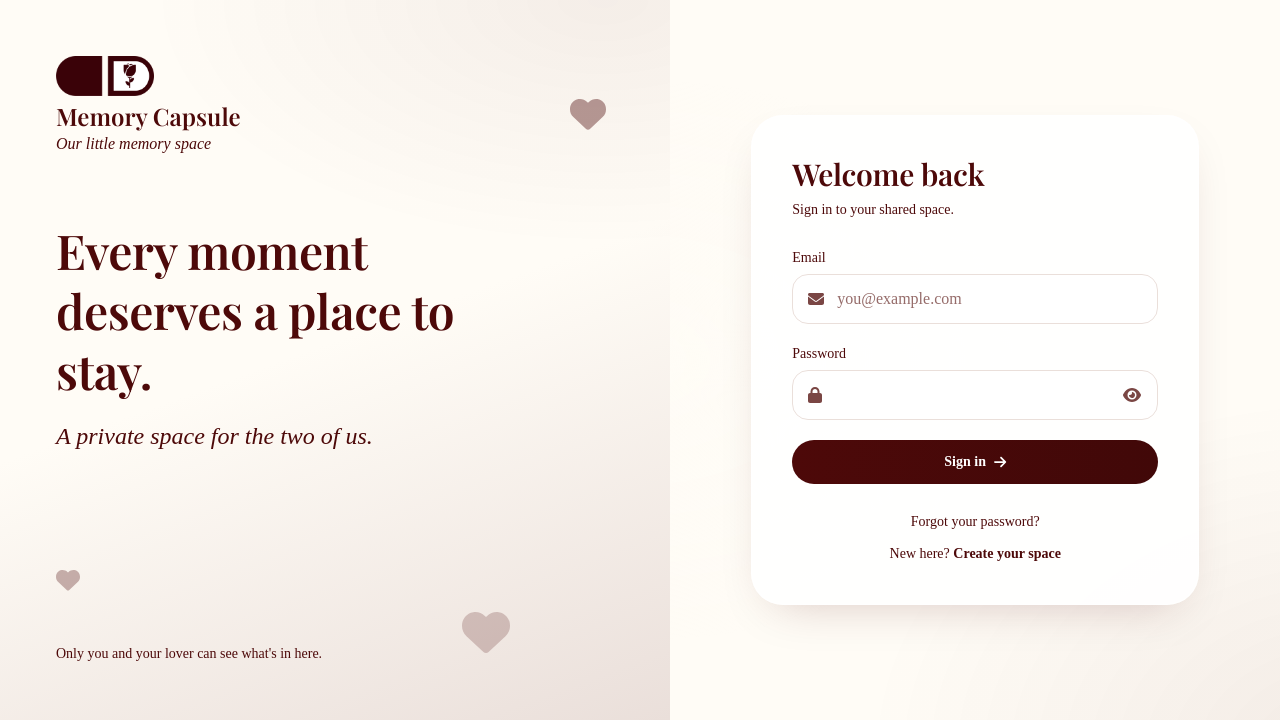
Test: login › shows a clear message for a wrong password
Type "rectojustine84@gmail.com" into the field labelled "Email" at (975, 299), box [792,274,1158,324]
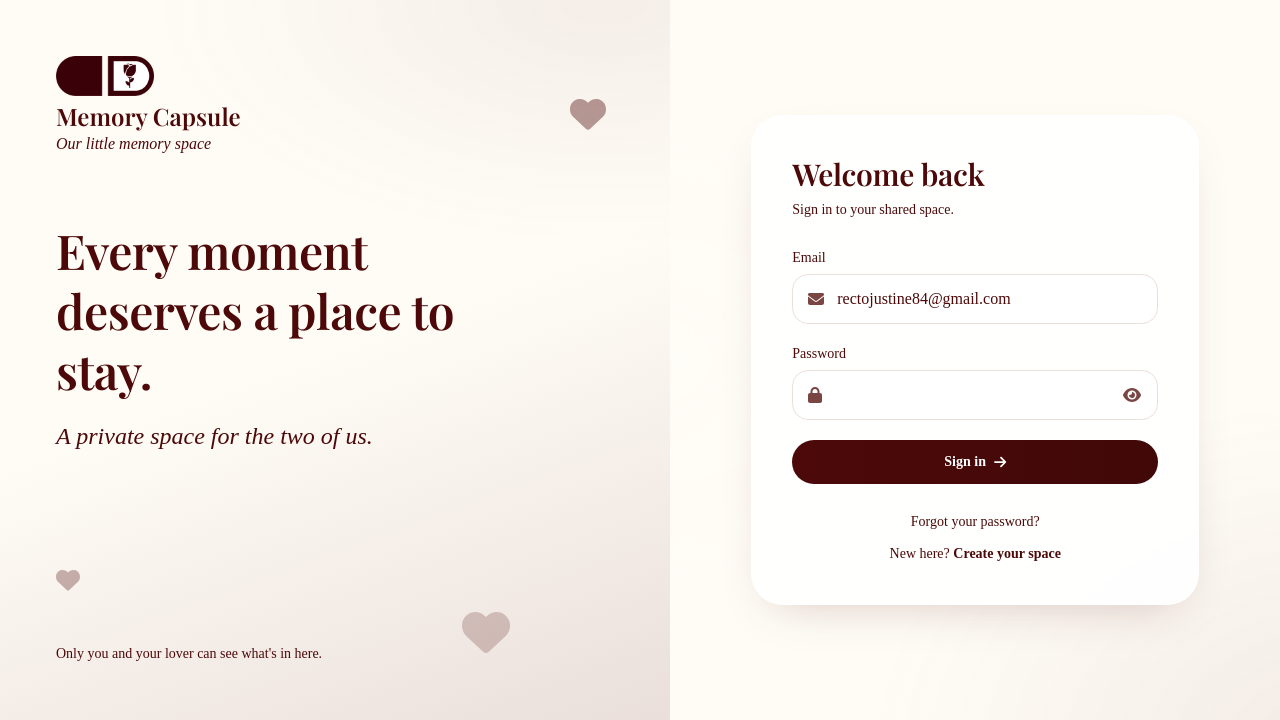
Type "wrongpass" into the password field labelled "Password" at (975, 395), box [792,370,1158,420]
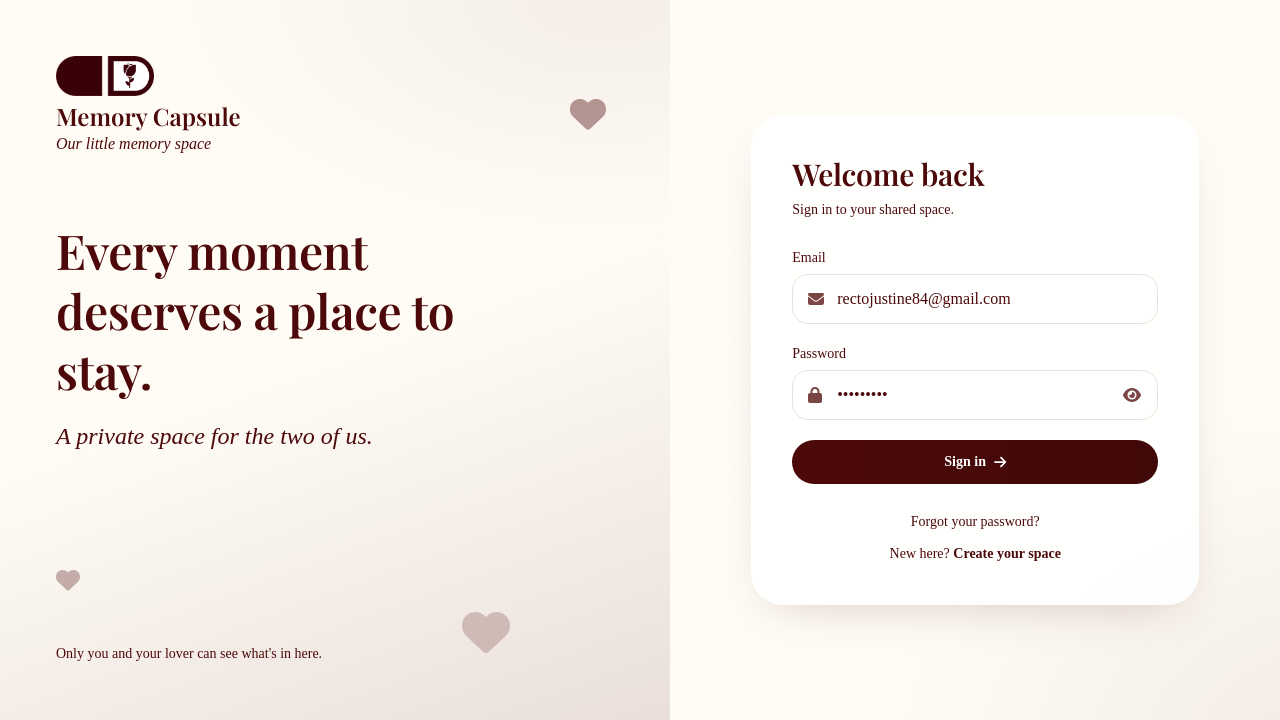
Click the button "Sign in" at (975, 462), box [792,440,1158,484]
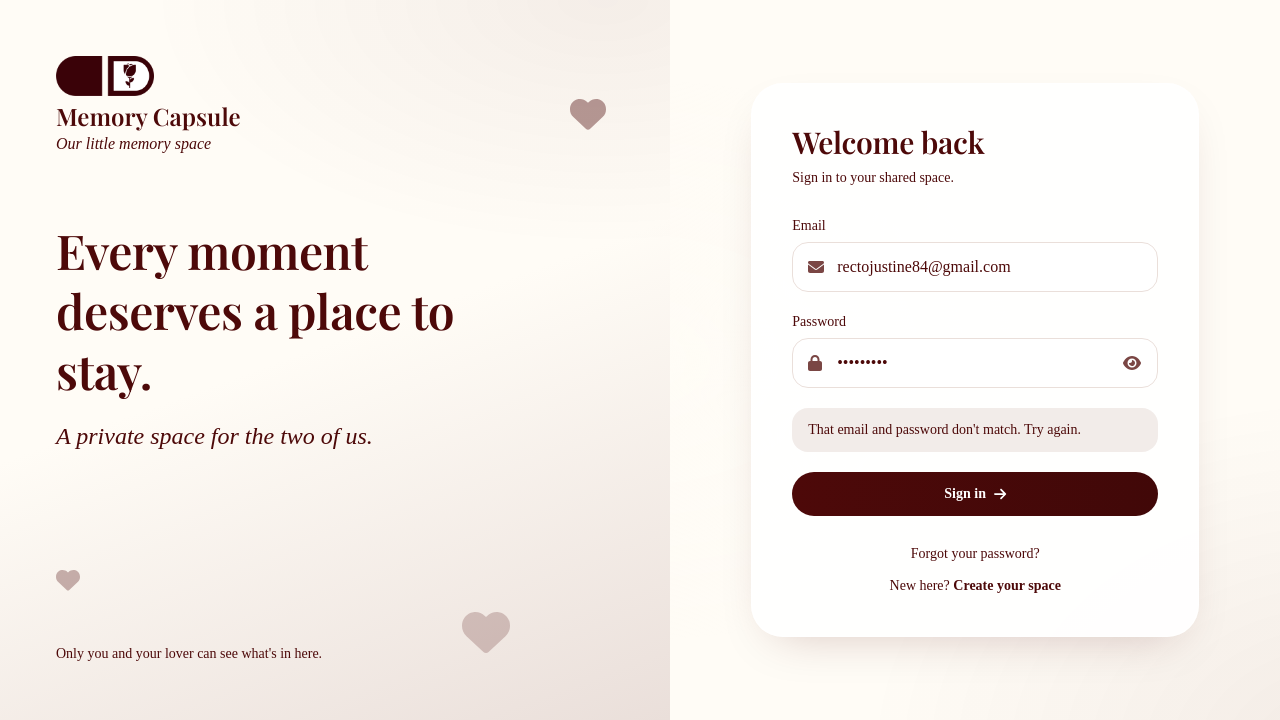
expect the text "That email and password don't match. Try again." is shown: met, box [792,408,1158,452]
